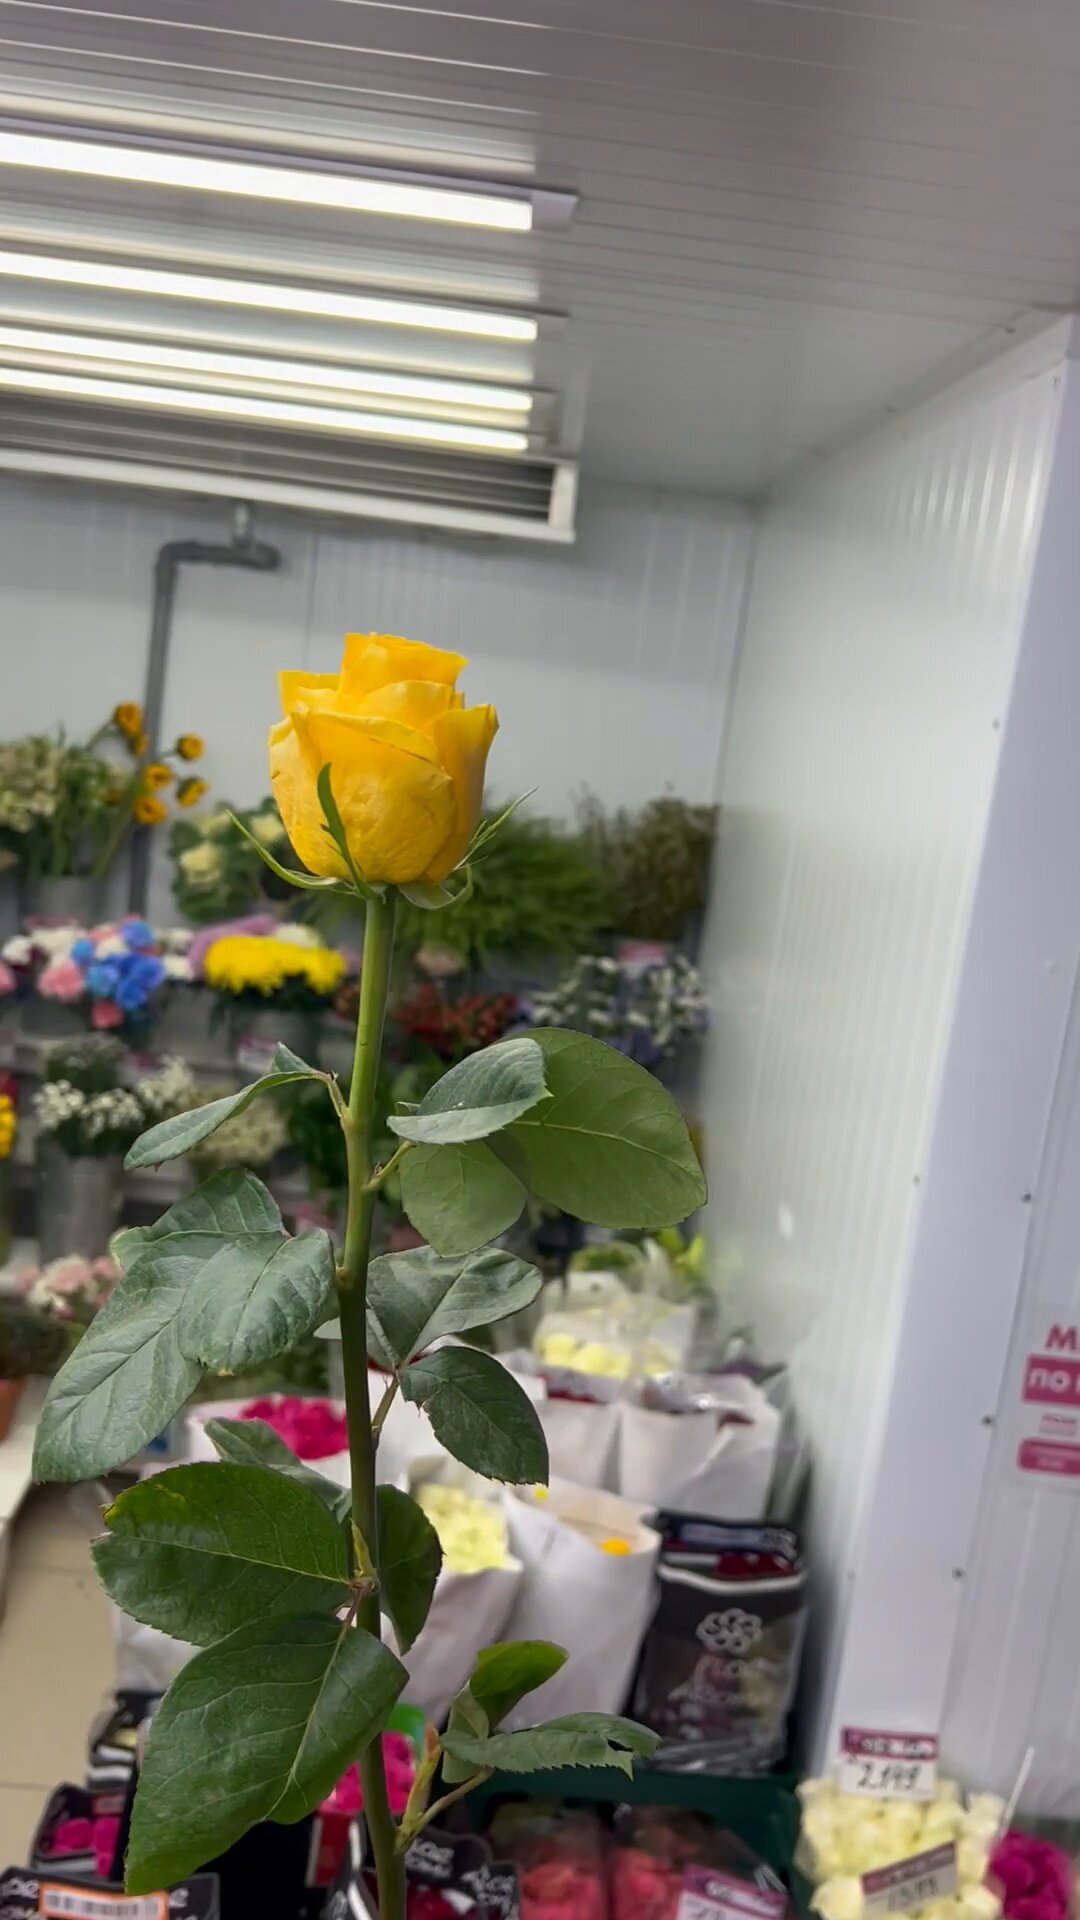rose: (96, 620, 691, 1920)
